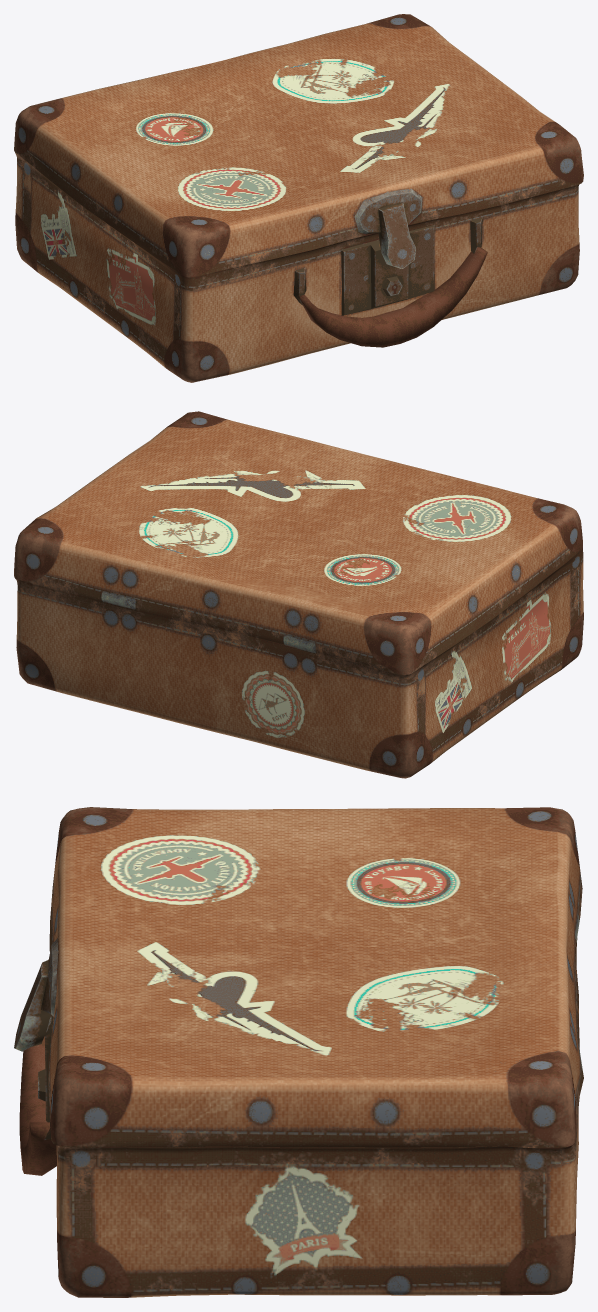
The model's file is mdl_hub_vintagesuitcase2.gltf.
The picture shows the model from 3 angles, top to bottom: view 1: azimuth 30°, elevation 25°; view 2: azimuth 150°, elevation 25°; view 3: azimuth 270°, elevation 25°; orthographic projection. The views are drawn at different scales.
Parts seen in each view (by area): view 1: suitcase-sketchfab-texturing-challenge_01 - Default_0; view 2: suitcase-sketchfab-texturing-challenge_01 - Default_0; view 3: suitcase-sketchfab-texturing-challenge_01 - Default_0.
Boxes of the visible parts, bbox=[...] form: suitcase-sketchfab-texturing-challenge_01 - Default_0: bbox=[14, 14, 583, 382]; suitcase-sketchfab-texturing-challenge_01 - Default_0: bbox=[14, 411, 583, 778]; suitcase-sketchfab-texturing-challenge_01 - Default_0: bbox=[14, 807, 583, 1297].
Bounding box in the file's own units: 0.5061 × 0.1869 × 0.4193.
1 material, 1 textured.
